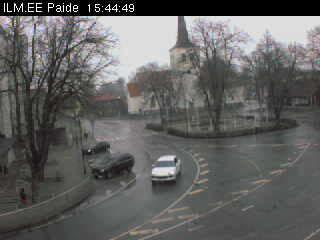car: (93, 151, 135, 181), (151, 154, 182, 186), (82, 139, 111, 158)
person: (19, 186, 29, 211), (83, 130, 89, 141)
